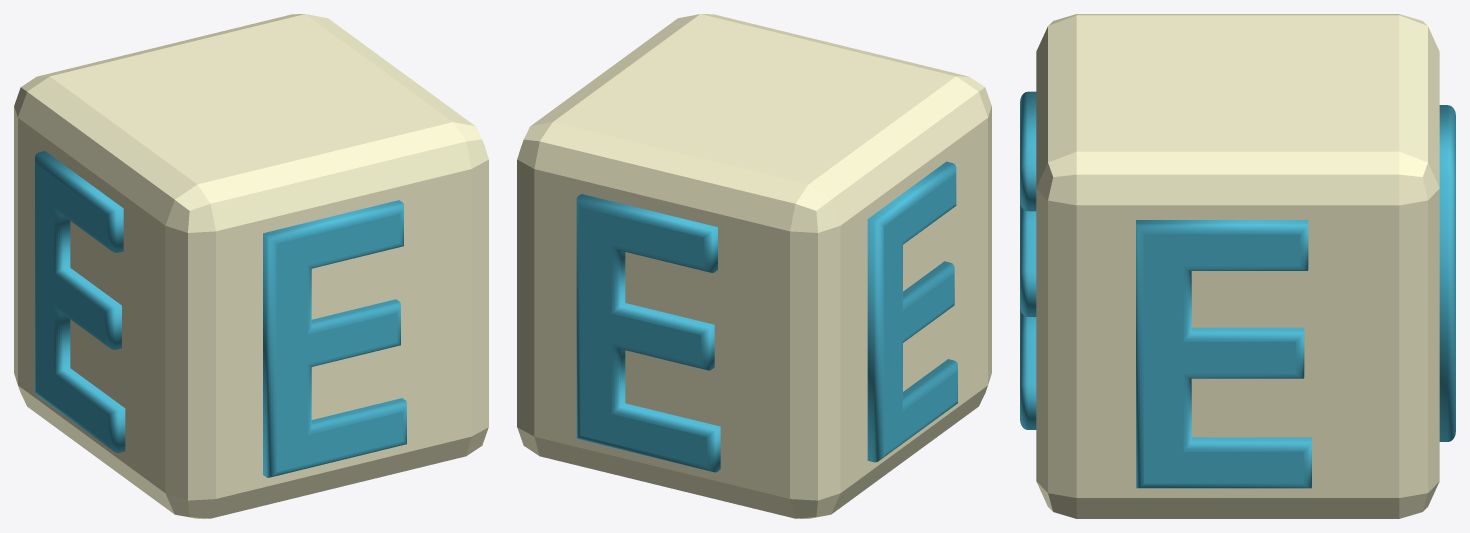
3 renders of one model, left to right at view 1: azimuth 30°, elevation 25°; view 2: azimuth 150°, elevation 25°; view 3: azimuth 270°, elevation 25°, orthographic. The views are drawn at different scales.
Parts seen in each view (by area): view 1: E; view 2: E; view 3: E.
Boxes of the visible parts, bbox=[...] form: E: bbox=[14, 14, 488, 518]; E: bbox=[517, 14, 991, 518]; E: bbox=[1020, 14, 1455, 518].
Bounding box in the file's own units: 216 × 200 × 216.
